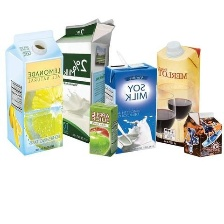carton: (49, 13, 117, 144), (1, 26, 67, 159), (101, 58, 159, 158), (155, 35, 205, 148), (180, 108, 224, 161), (86, 97, 123, 160)
